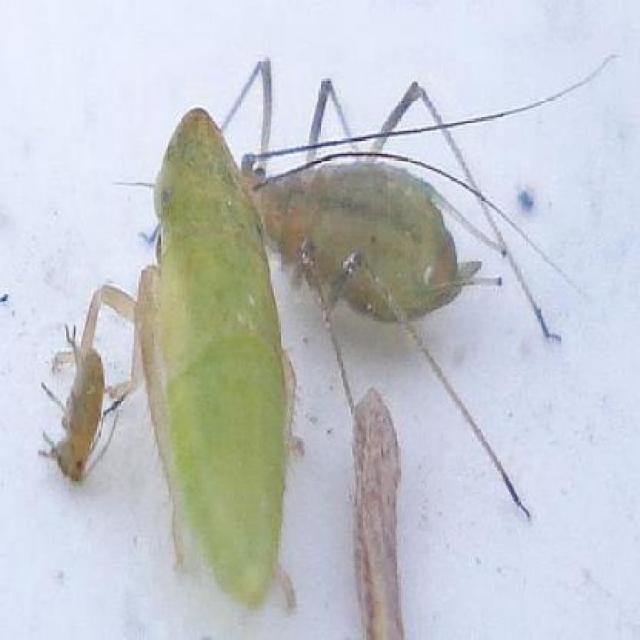green-leafhopper: (49, 109, 302, 608), (244, 158, 528, 513)
